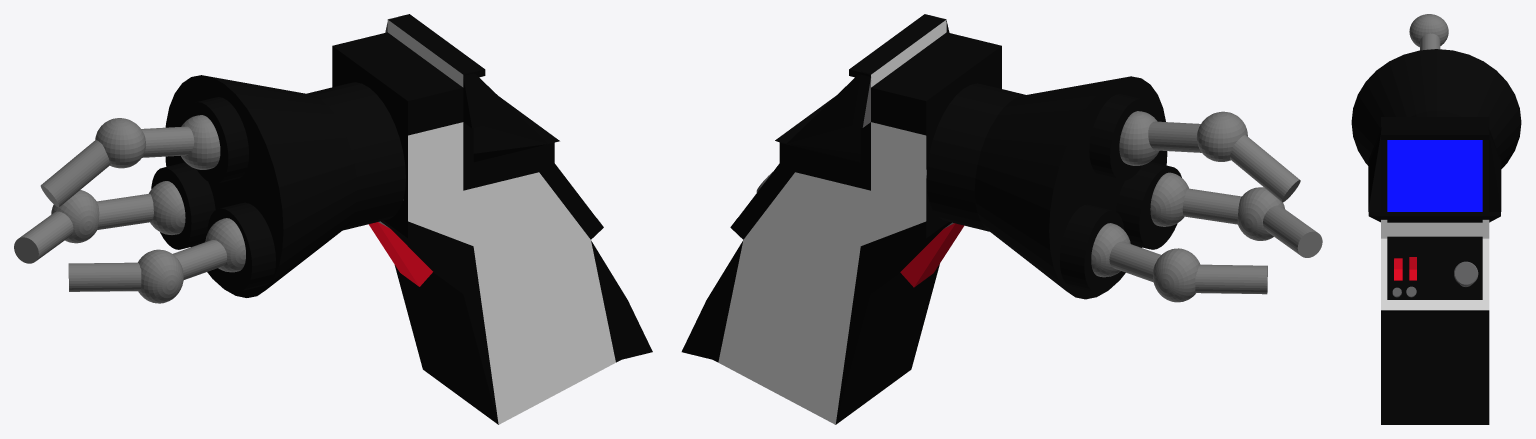
3 views of the same model, side by side, from view 1: azimuth 30°, elevation 25°; view 2: azimuth 150°, elevation 25°; view 3: azimuth 270°, elevation 25° (orthographic). The views are drawn at different scales.
Visible parts, largest first — view 1: Cube; view 2: Cube; view 3: Cube.
Boxes of the visible parts, bbox=[...] form: Cube: bbox=[14, 14, 652, 424]; Cube: bbox=[681, 14, 1322, 424]; Cube: bbox=[1351, 14, 1521, 424].
Size of the model in its own units: 876 by 539 by 314.
